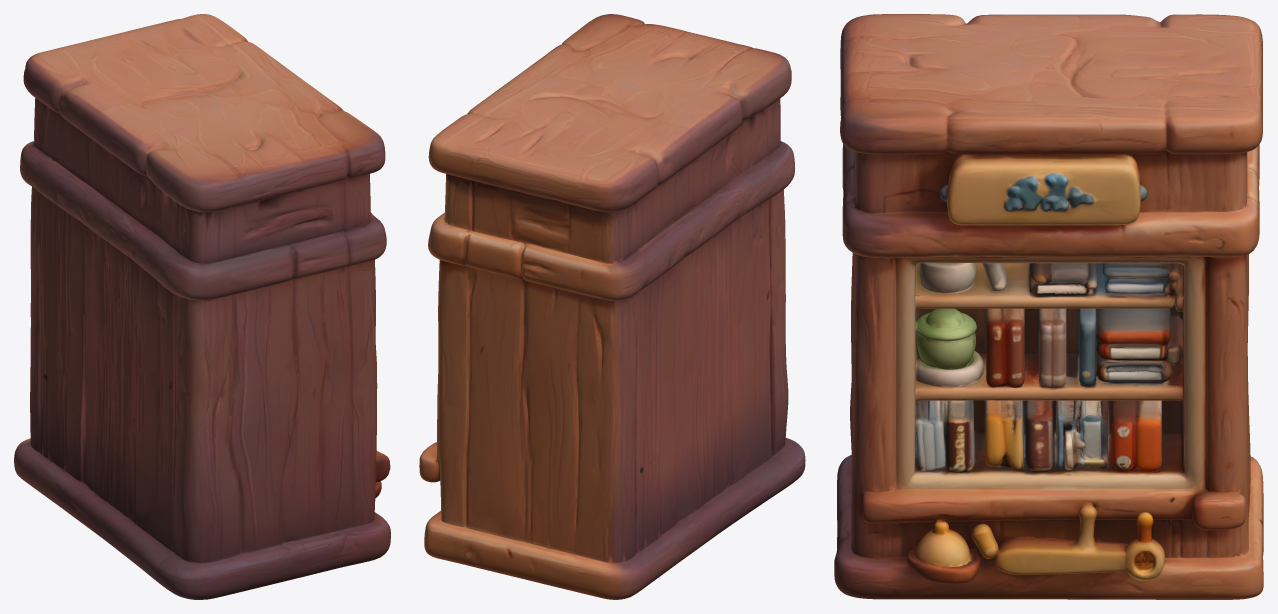
Rendered from building-bookstore.glb.
3 views of the same model, side by side, from view 1: azimuth 30°, elevation 25°; view 2: azimuth 150°, elevation 25°; view 3: azimuth 270°, elevation 25° (orthographic). The views are drawn at different scales.
Parts seen in each view (by area): view 1: tripo_node_b5daf8cd-e1e5-48e5-aea4-a930b3679c3d; view 2: tripo_node_b5daf8cd-e1e5-48e5-aea4-a930b3679c3d; view 3: tripo_node_b5daf8cd-e1e5-48e5-aea4-a930b3679c3d.
Part boxes in pixels (x1,y1,x2,y2): tripo_node_b5daf8cd-e1e5-48e5-aea4-a930b3679c3d: (14, 14, 390, 599); tripo_node_b5daf8cd-e1e5-48e5-aea4-a930b3679c3d: (419, 14, 805, 599); tripo_node_b5daf8cd-e1e5-48e5-aea4-a930b3679c3d: (834, 14, 1263, 599).
Bounding box in the file's own units: 3.61 × 6 × 4.79.
Materials: 1 (1 with a texture image).
